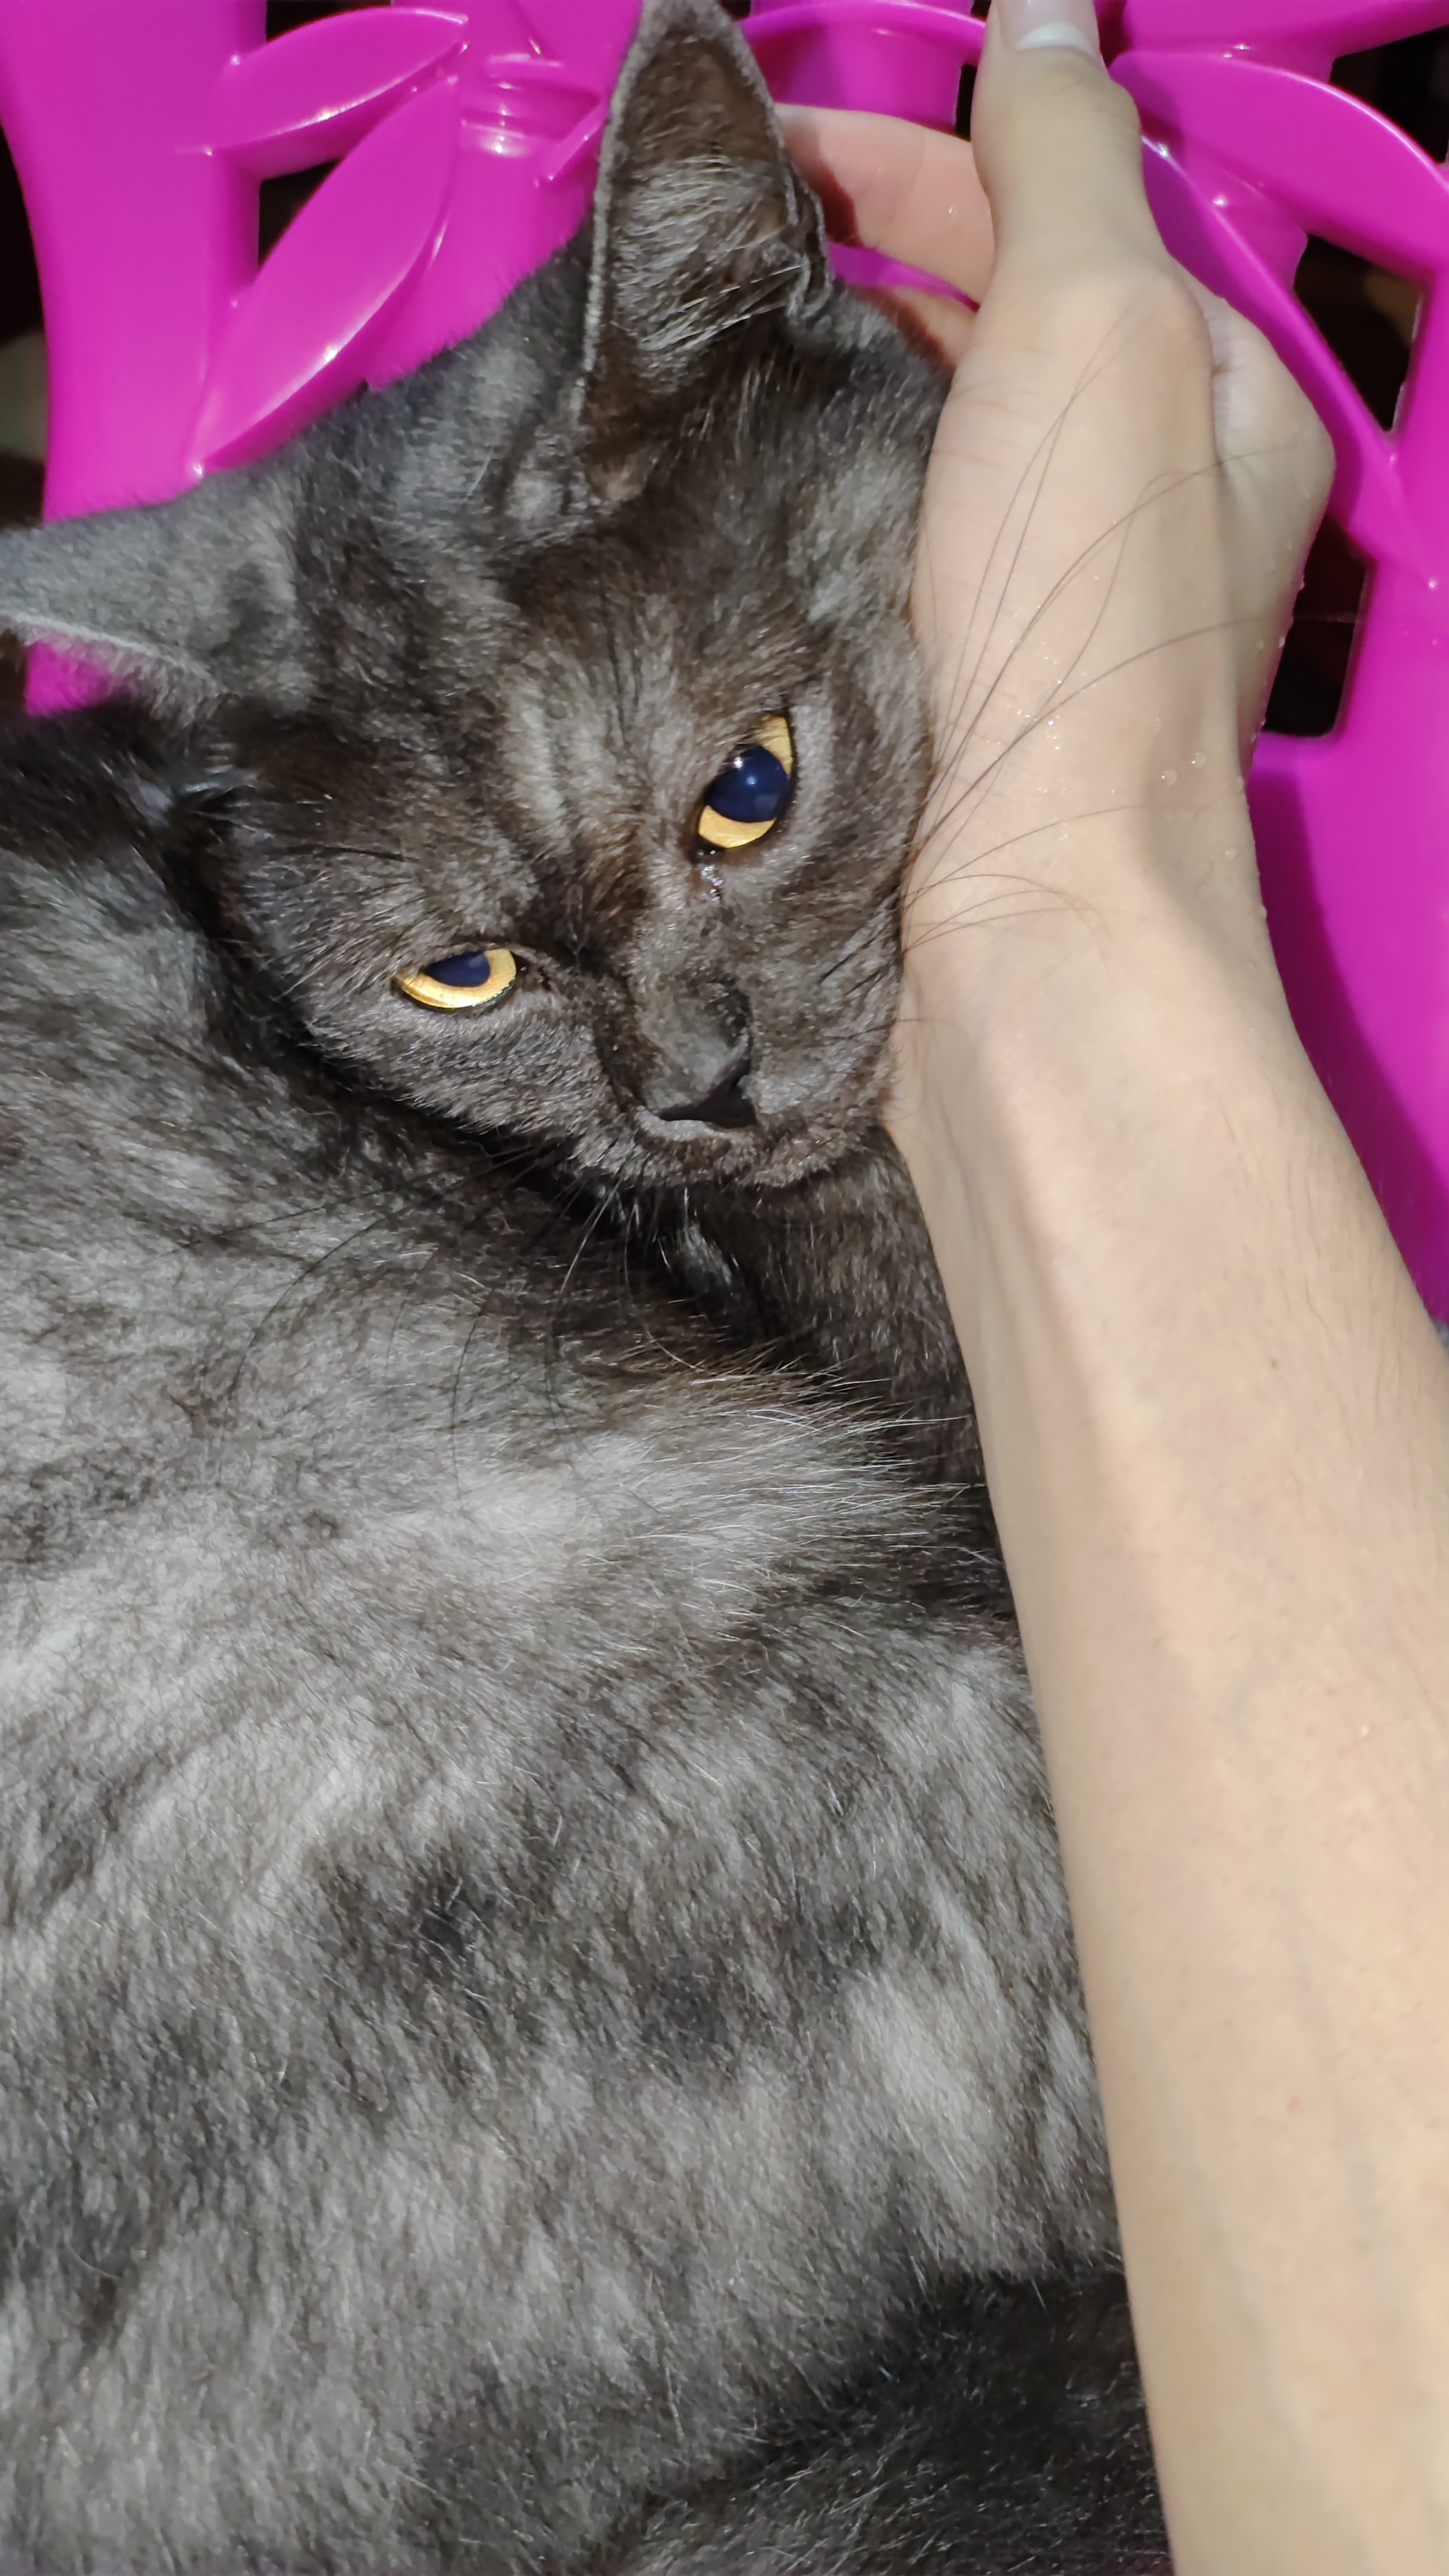black: (27, 205, 934, 2567)
